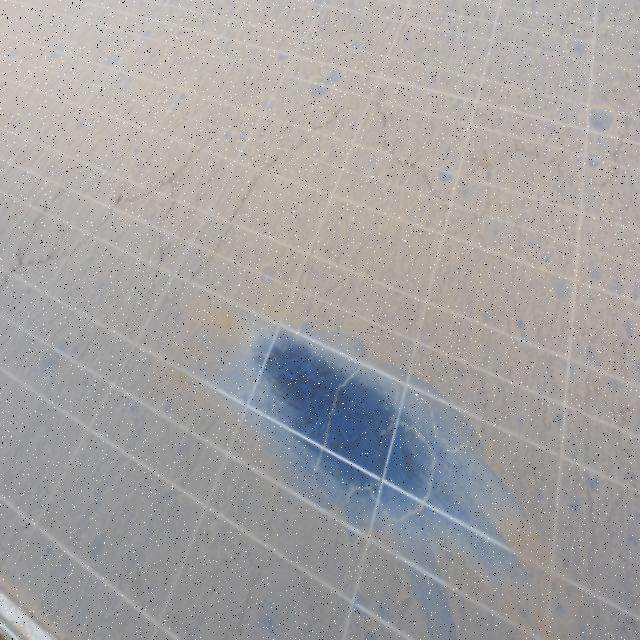dusty: (4, 20, 635, 630)
